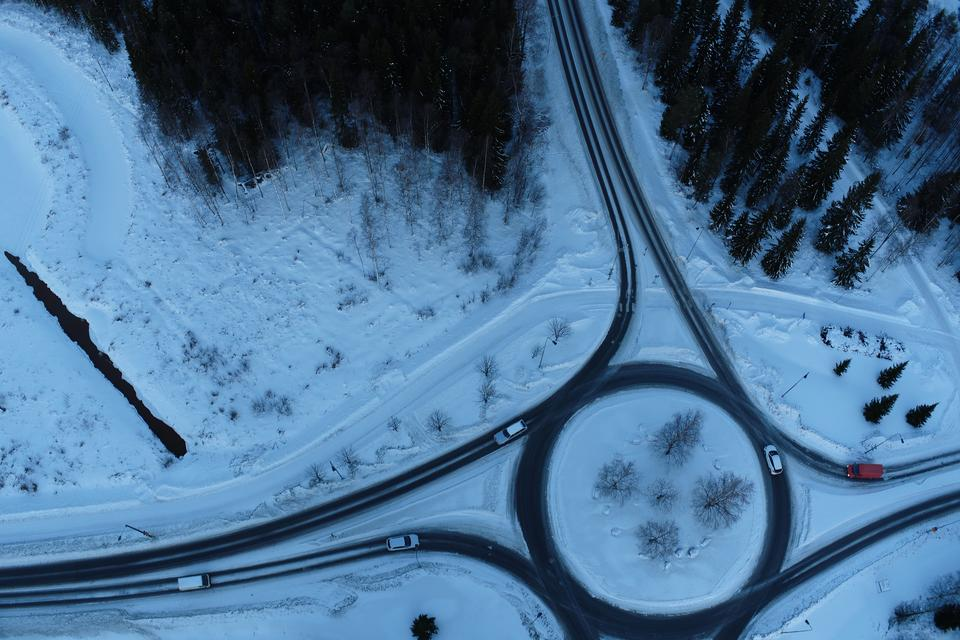intersection: (584, 273, 735, 325)
roundabout: (463, 332, 861, 640)
